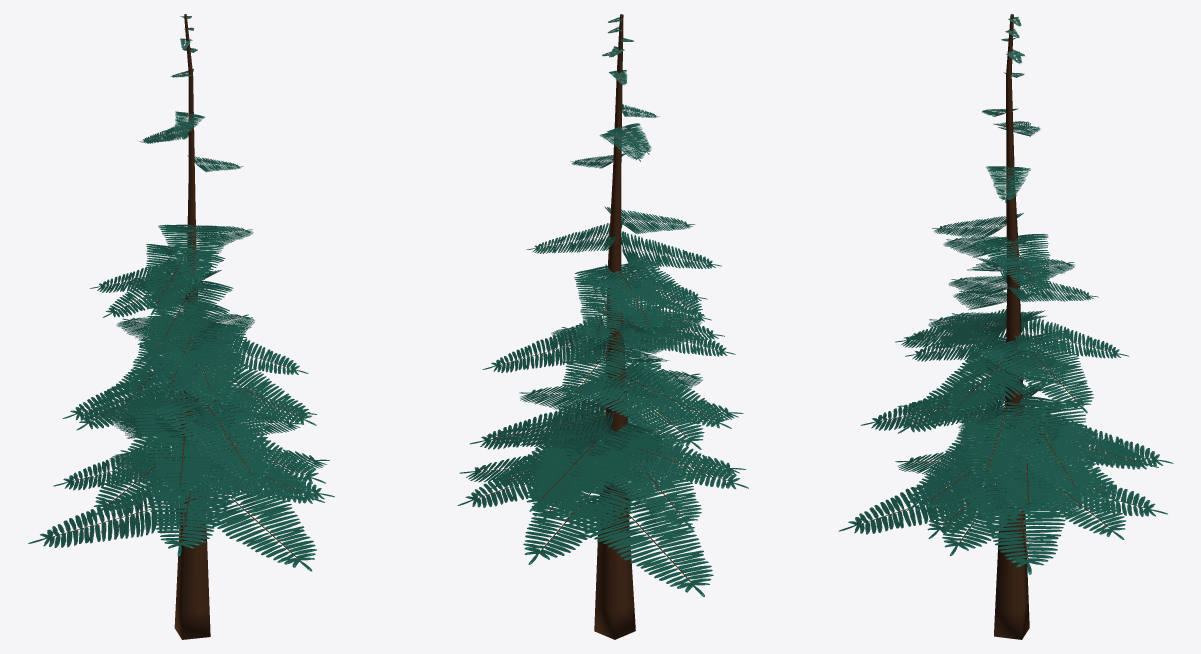
The model's file is pine_tree_LOD1.fbx.
3 renders of one model, left to right at view 1: azimuth 30°, elevation 25°; view 2: azimuth 150°, elevation 25°; view 3: azimuth 270°, elevation 25°, orthographic.
Parts seen in each view (by area): view 1: Pine_Branch.001; view 2: Pine_Branch.001; view 3: Pine_Branch.001.
Part boxes in pixels (box(x1,y1,x2,y2)): Pine_Branch.001: box(28, 14, 334, 639); Pine_Branch.001: box(457, 14, 748, 639); Pine_Branch.001: box(838, 14, 1173, 639).
Bounding box in the file's own units: 395 × 710 × 389.
2 materials, 1 textured.
